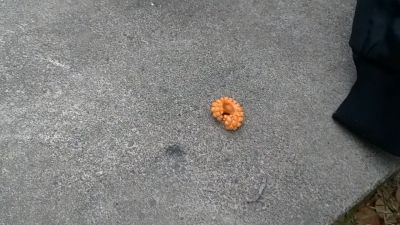eggs: (209, 95, 245, 132)
